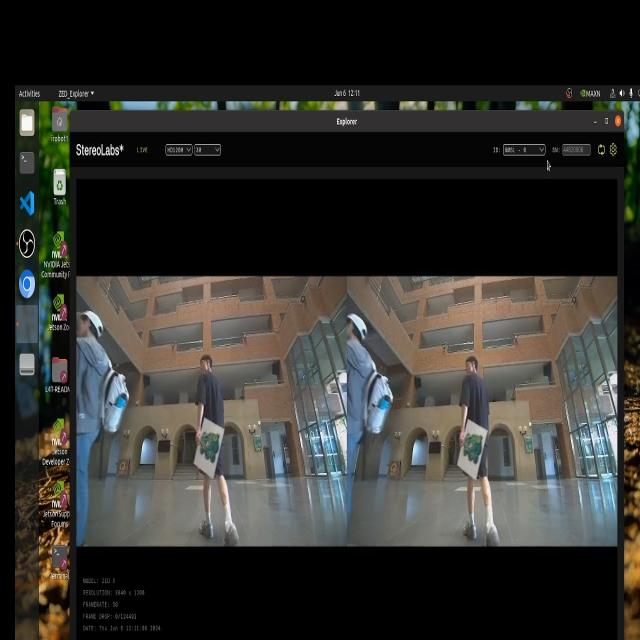green: (197, 424, 224, 465), (459, 431, 482, 462)
